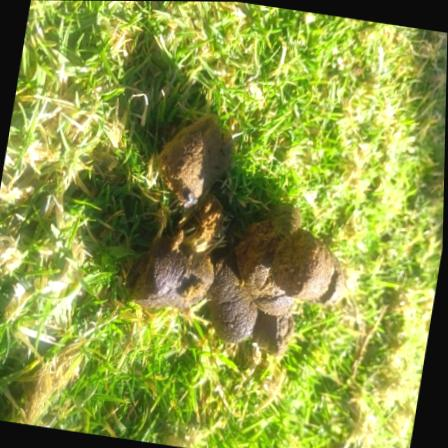dog-poop: (128, 106, 376, 370)
